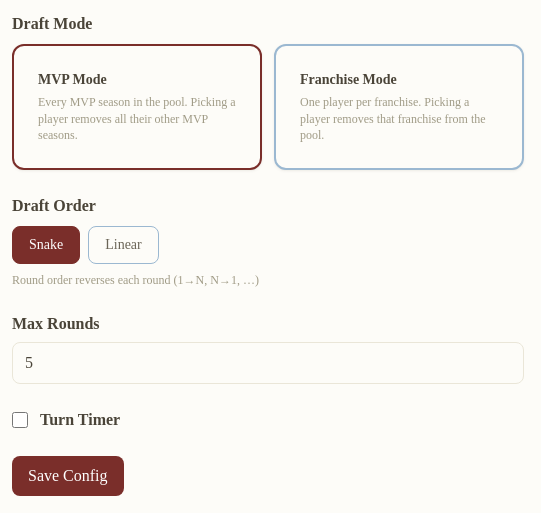
Scenario: DraftConfigPanel › draft order selection › restores Snake order and description when Snake is clicked after Linear
This screenshot has width=541, height=513.
Step 1. Click the button "Linear" → coordinates (123, 244), box [88,226,159,264]
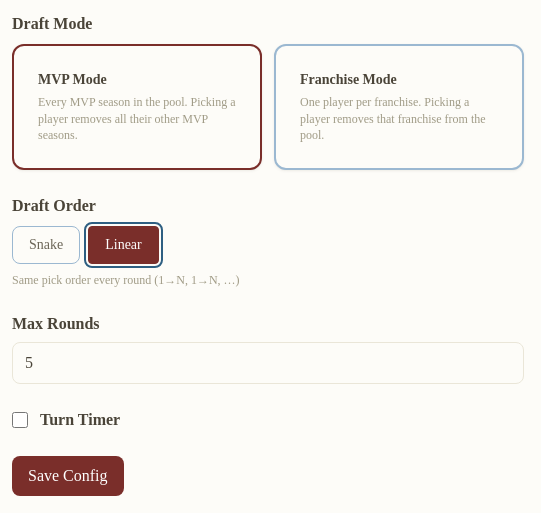
Step 2. Click the button "Snake" → coordinates (46, 244), box [12,226,80,264]
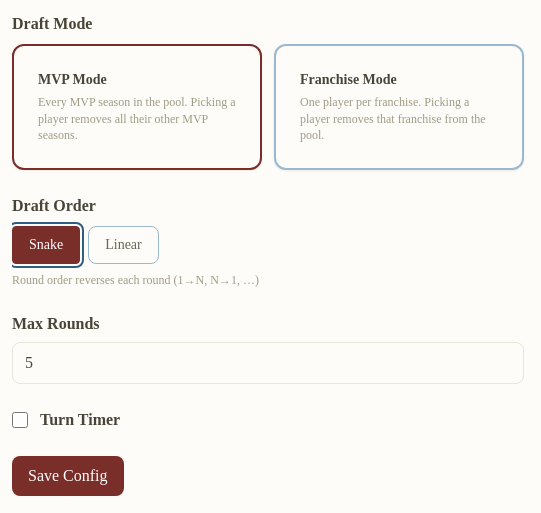
Expected: the text "Round order reverses each round (1→N, N→1, …)" is shown, [12,272,259,286]
